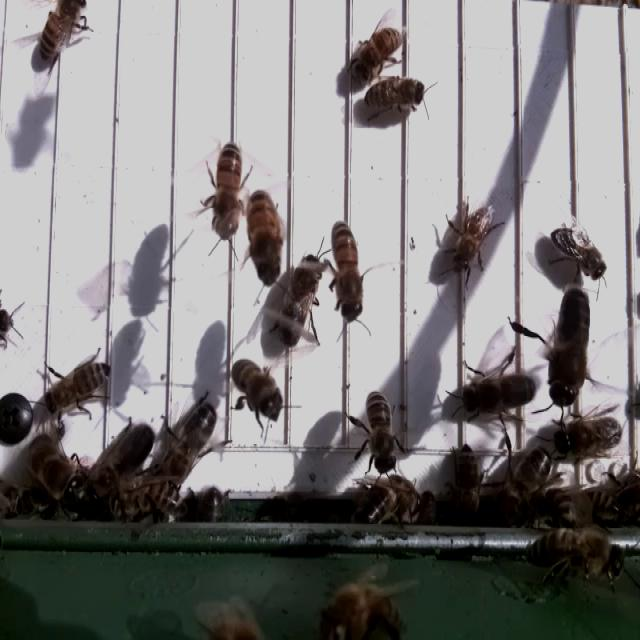Drone: (545, 281, 594, 412), (275, 246, 326, 354), (166, 395, 221, 483), (27, 430, 86, 511), (457, 367, 541, 423), (105, 415, 158, 487), (551, 411, 625, 462)
Worker: (43, 355, 114, 417), (331, 218, 366, 328), (231, 357, 288, 422), (247, 189, 284, 287), (210, 139, 244, 243), (547, 225, 608, 282), (364, 386, 401, 474), (451, 205, 494, 277), (354, 22, 406, 80), (362, 74, 428, 114)
